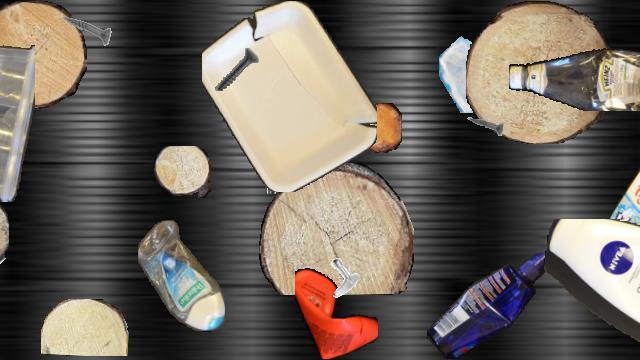glass: (439, 29, 523, 113), (607, 199, 640, 261)
metal: (205, 39, 267, 101), (54, 1, 112, 59), (259, 147, 305, 193), (319, 256, 363, 300), (464, 106, 504, 146)
plastic: (202, 1, 376, 191), (426, 253, 556, 359), (542, 219, 640, 359), (588, 126, 640, 332), (138, 220, 224, 332), (509, 43, 640, 111), (295, 265, 377, 359), (0, 41, 34, 201)
wood: (466, 1, 610, 143), (259, 163, 413, 295), (0, 1, 86, 109), (242, 93, 334, 169), (41, 299, 129, 355), (154, 146, 210, 198), (359, 103, 401, 153), (0, 190, 9, 268)
